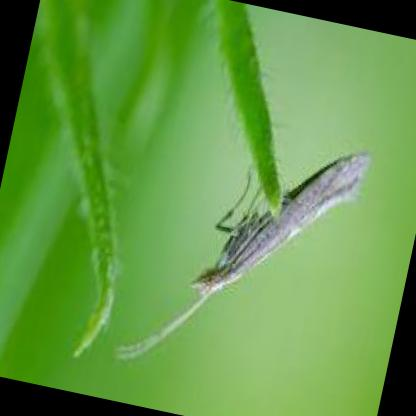plutella: (109, 149, 375, 356)
